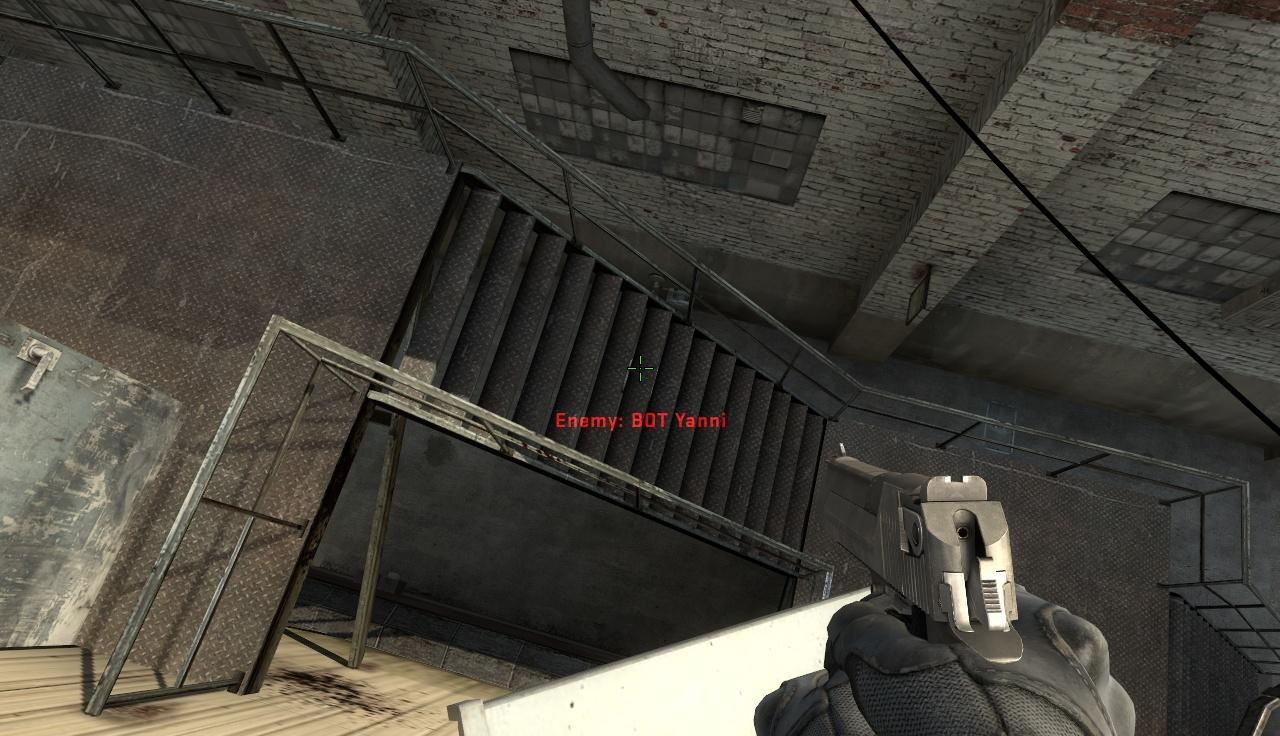pistol: (817, 441, 1137, 736)
